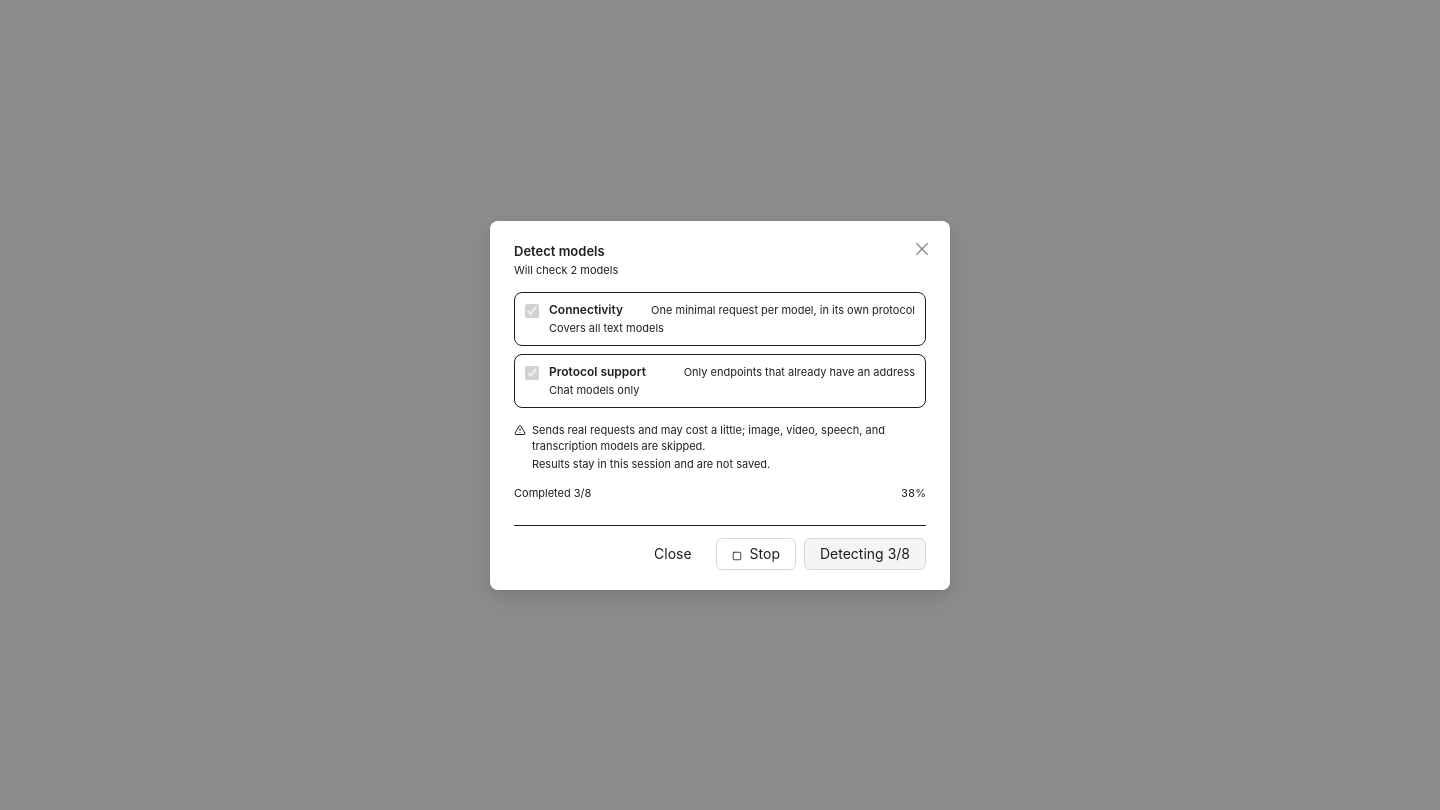
Test case: PLAT-82 检测模型对话框（可多选 + 进度 + 停止） › stops the running detection and shows the stopped note afterwards
Click the button "Stop" at (756, 554), box [716,538,796,570]
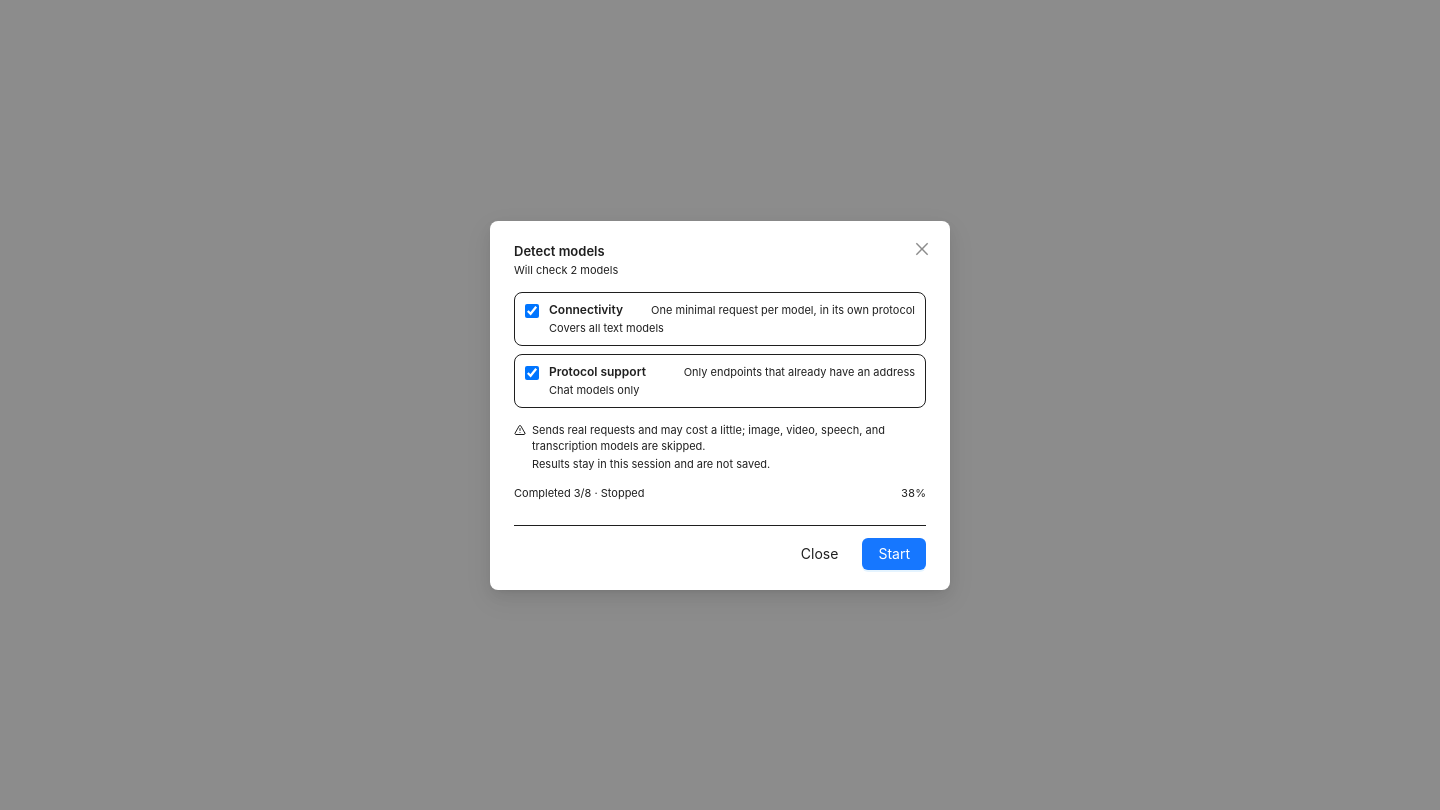
Result: the element showing "Completed 3/8 · Stopped 38%" is shown at [514,486,926,500]
Result: the button "Start" is enabled at [862,538,926,570]
